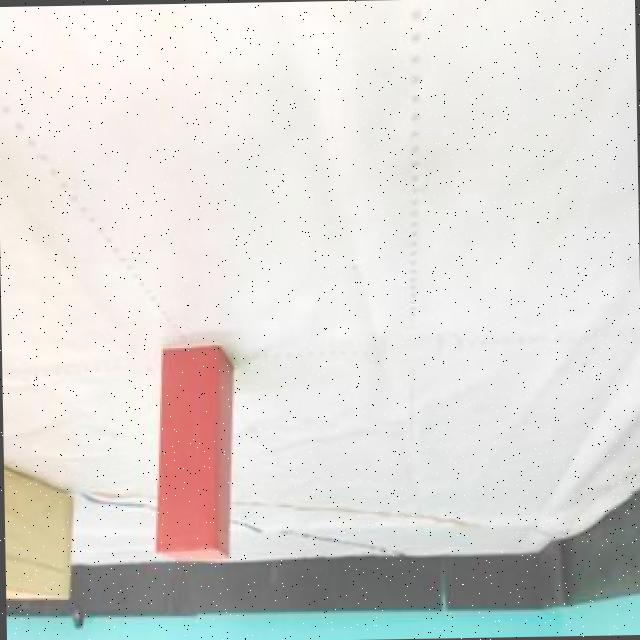redbox: (147, 343, 236, 562)
